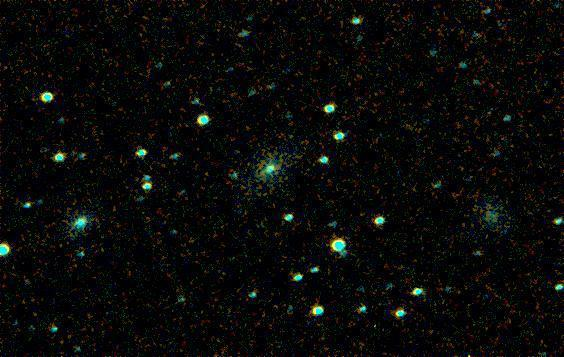star: (12, 190, 42, 220)
